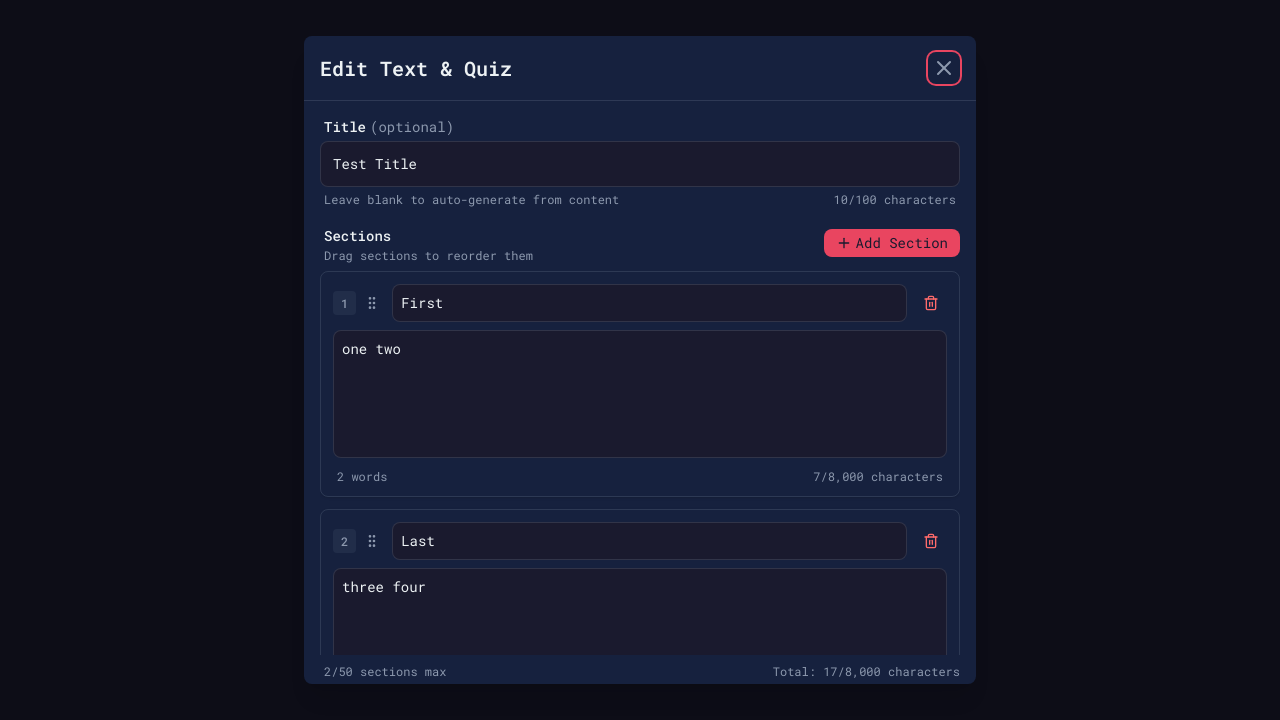
Test case: EditTextModal › lets the user cancel and confirm deletion of a filled section without closing the editor
Click the button named "Delete section 1": (931, 303) [915,287,947,319]
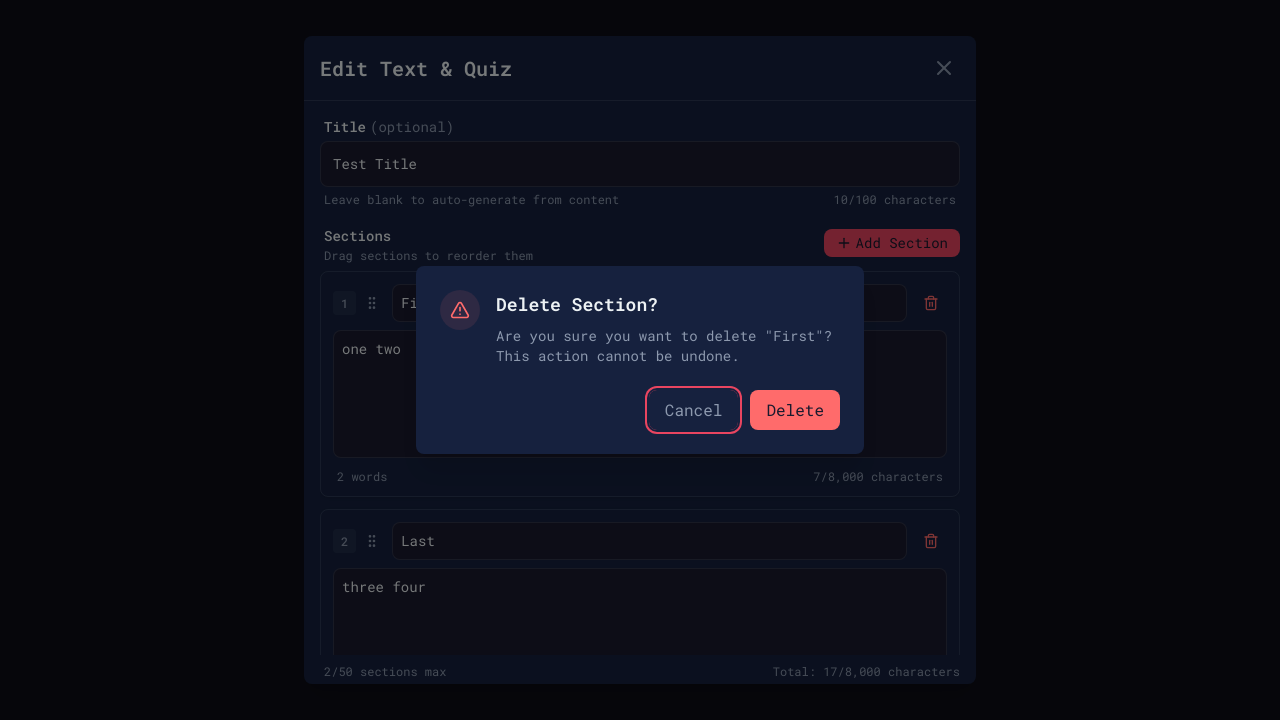
expect the dialog "Delete Section?" is shown: met
Press Escape
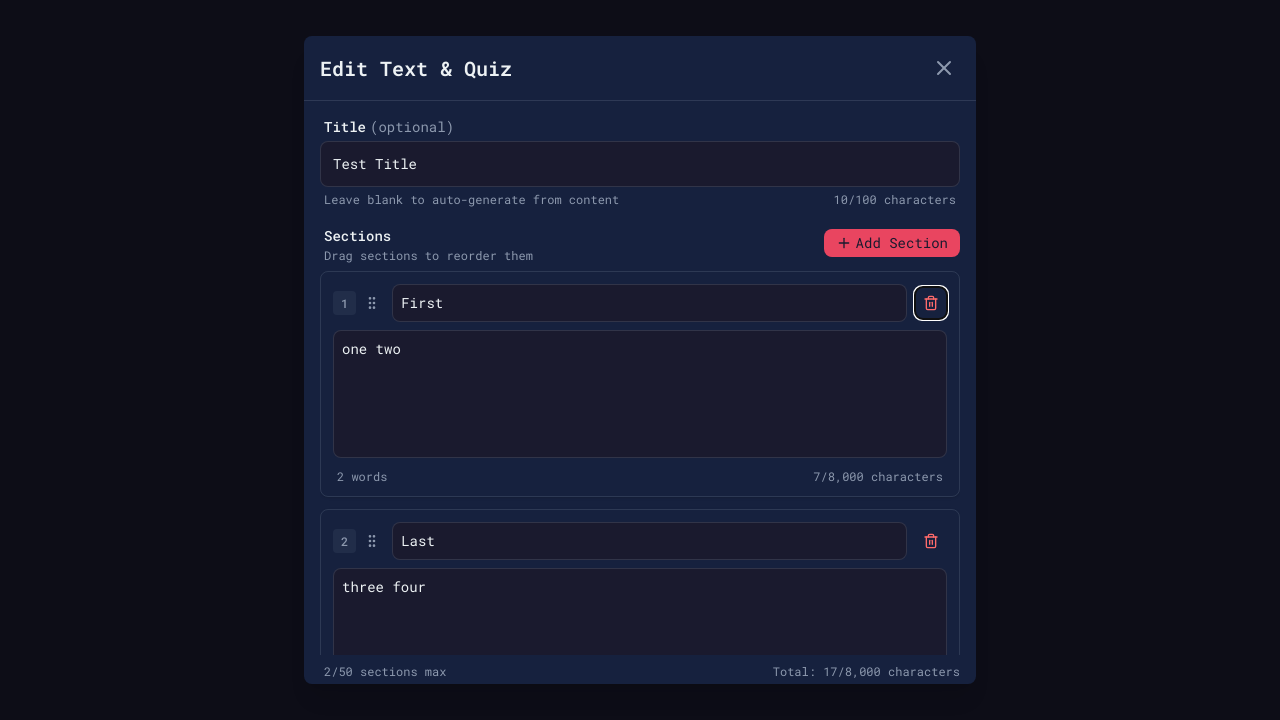
expect the field named "Section 1 Title" holds "First": met, box [392,284,907,322]
Click the button named "Delete section 1": (931, 303) [915,287,947,319]
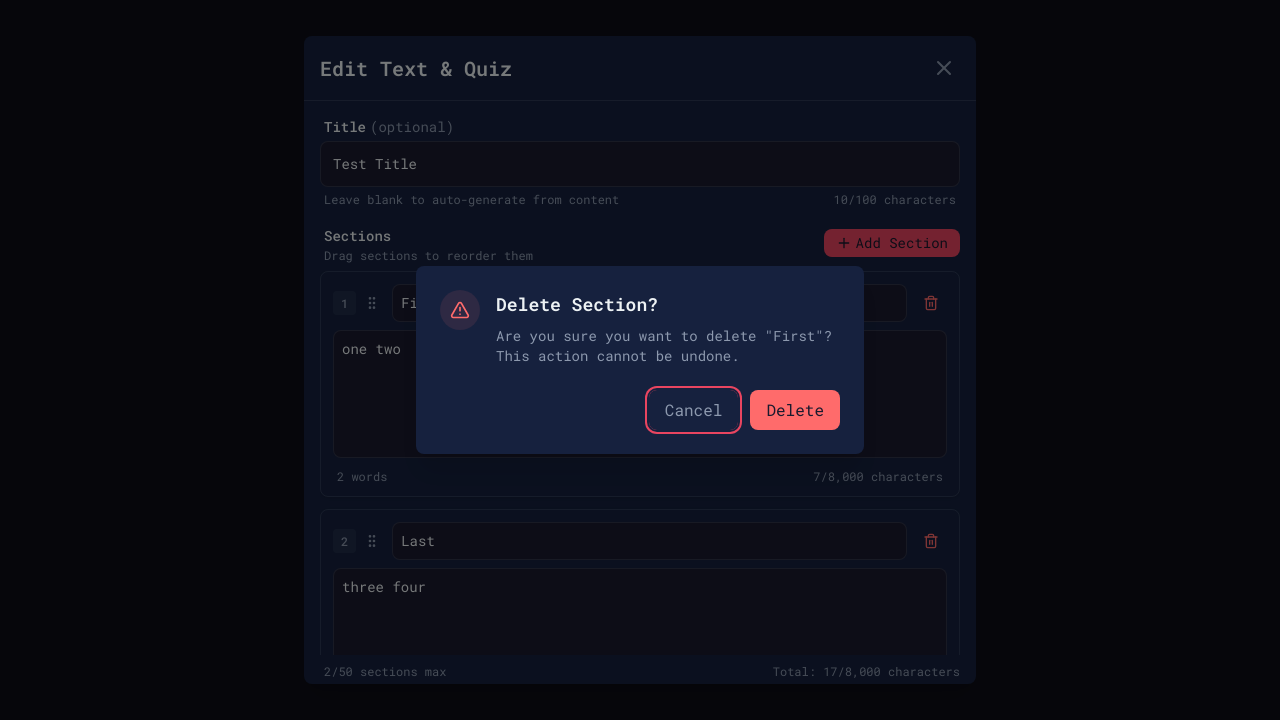
Click the button "Delete": (795, 410) [750,390,840,430]
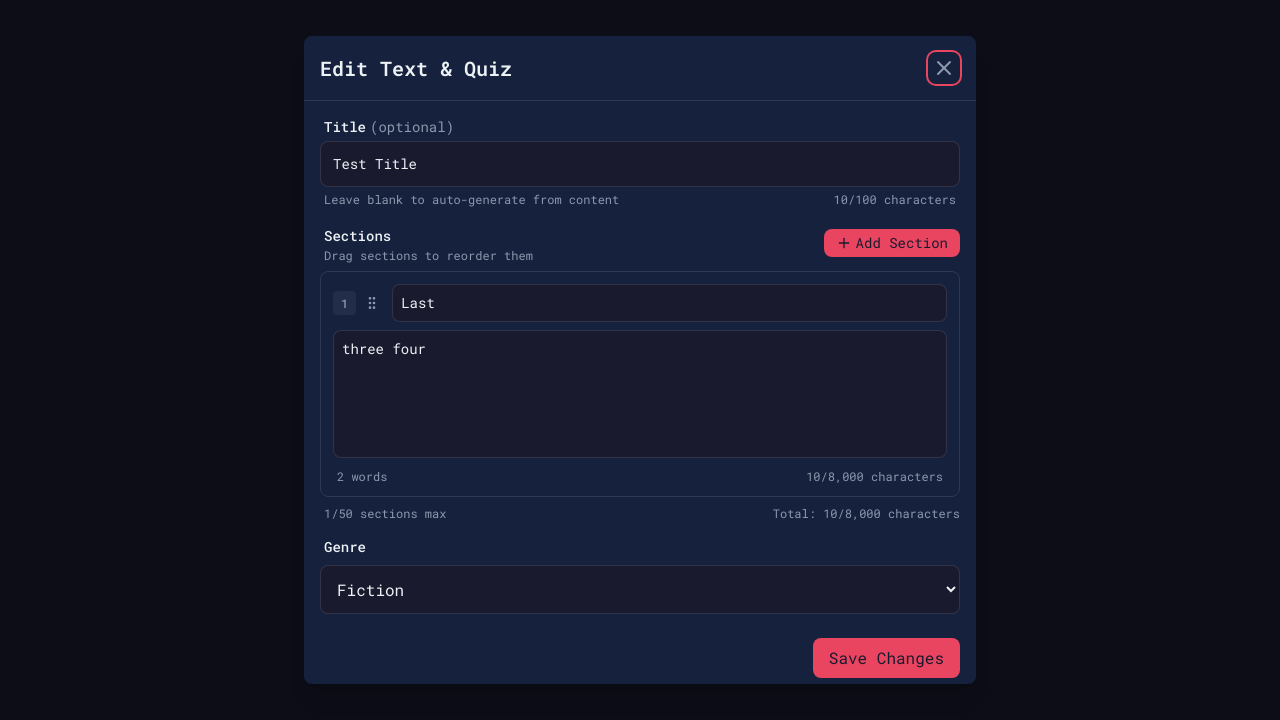
expect the field named "Section 1 Title" holds "Last": met, box [392,284,947,322]
